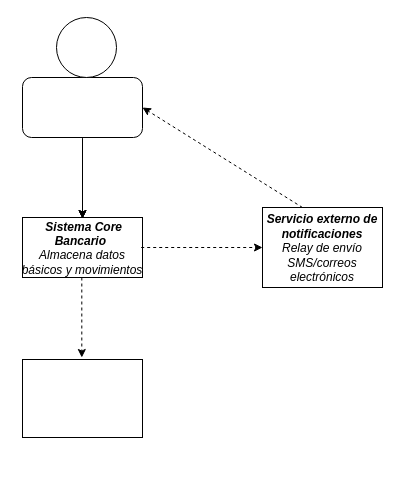
This 400x478 diagram has some shape labels left out. Each missing label, with the box of its shape:
Cliente Usa la aplicación Web SPA y móvil: (22, 76, 142, 138)
Sistema de información complementario Datos adicionales del cliente: (22, 358, 142, 438)
